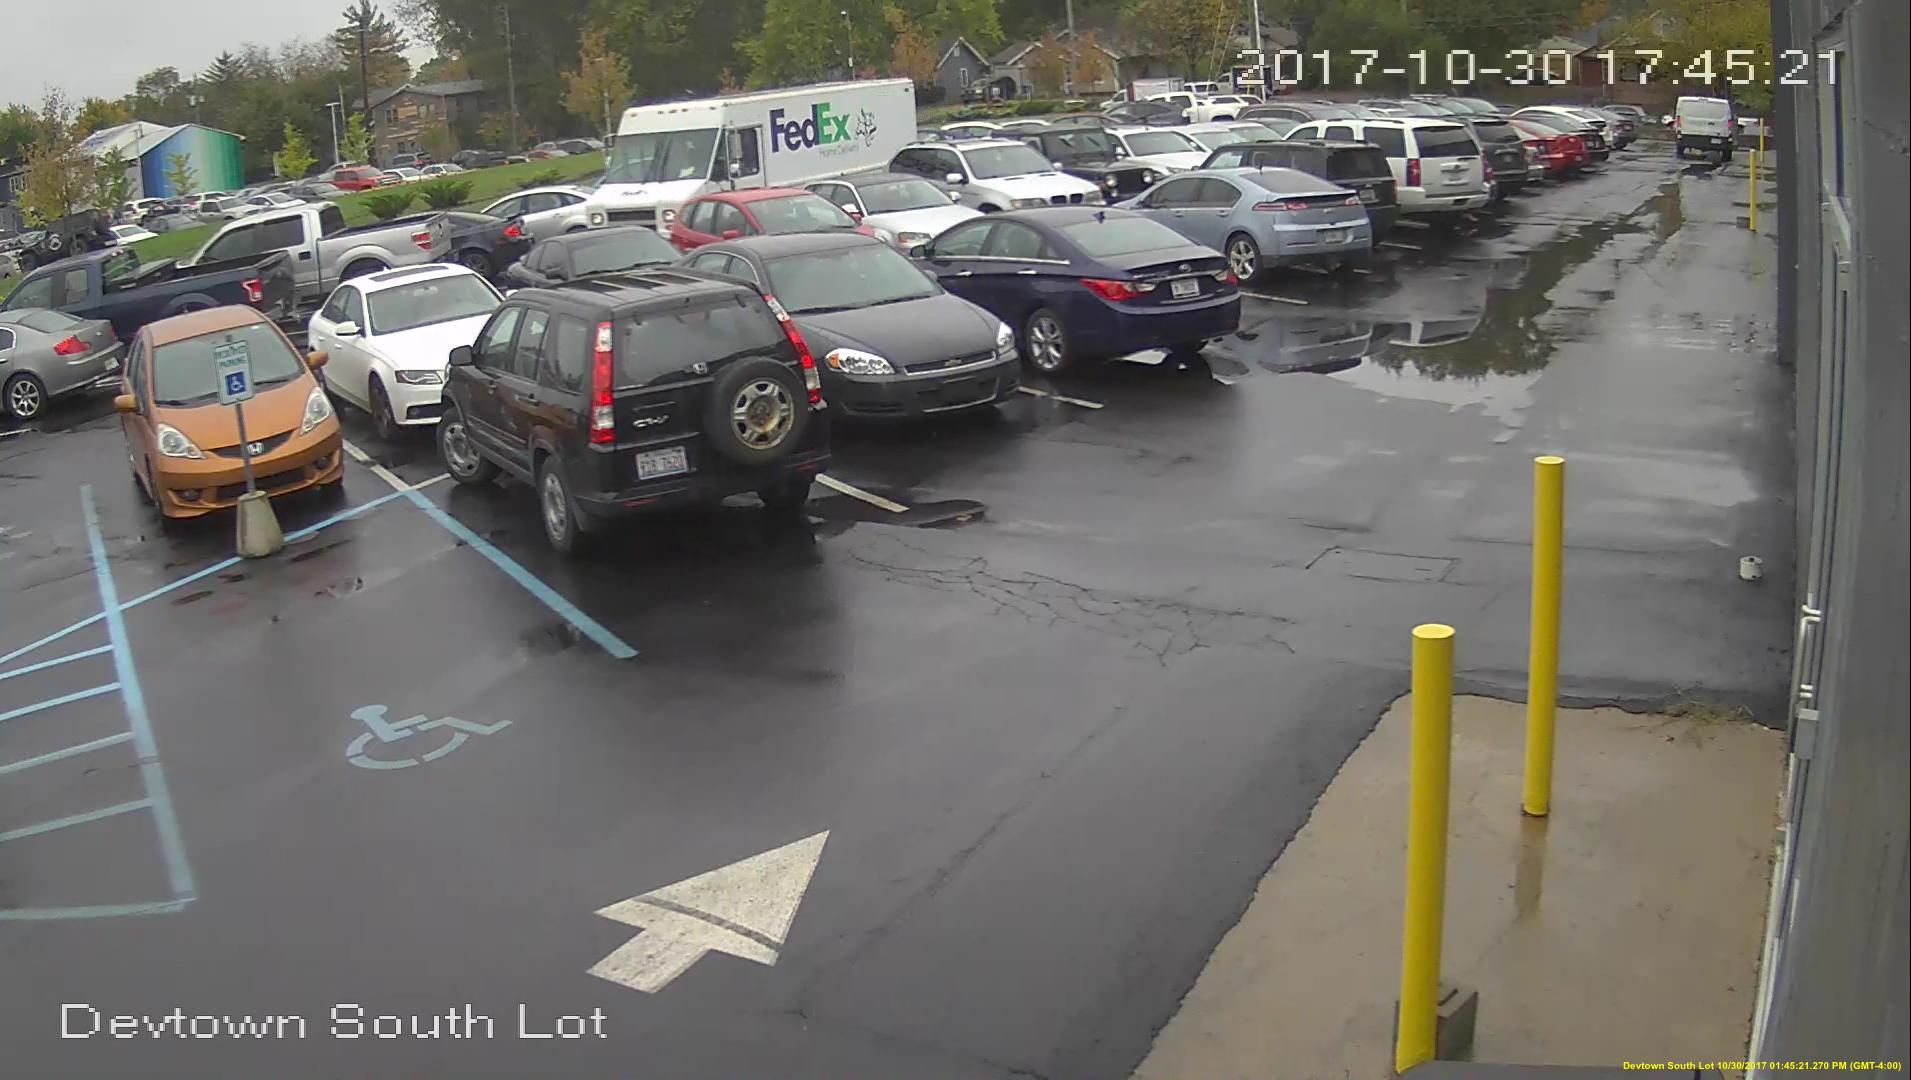fedex_truck: (588, 72, 917, 223)
